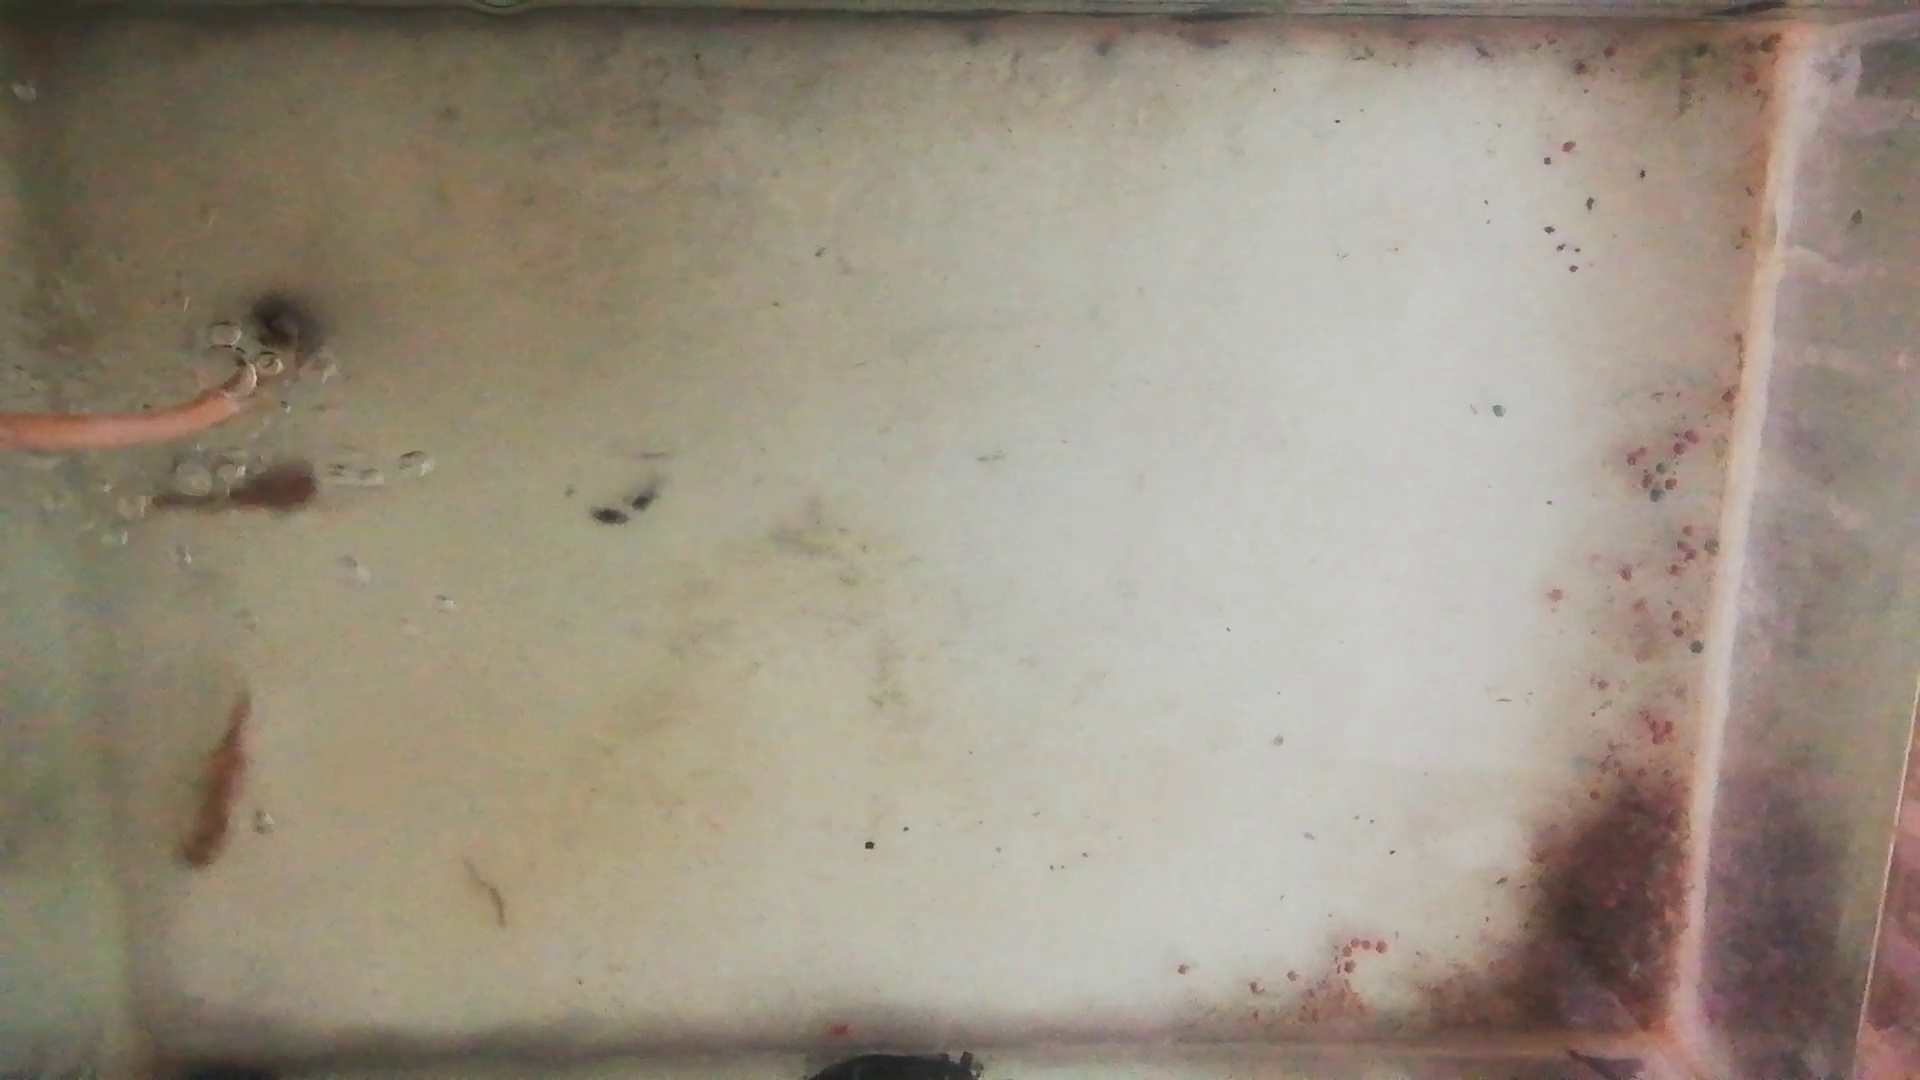fish: (173, 695, 249, 872), (150, 460, 326, 524)
